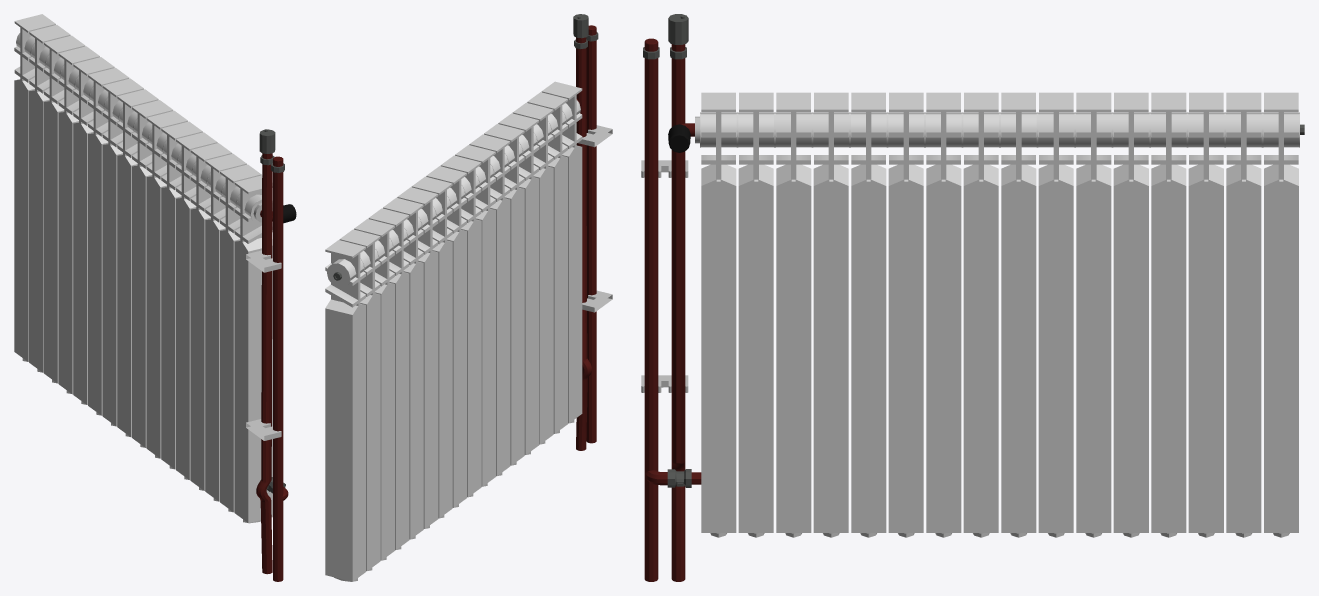
Rendered from radiator.fbx.
The picture shows the model from 3 angles, left to right: view 1: azimuth 30°, elevation 25°; view 2: azimuth 150°, elevation 25°; view 3: azimuth 270°, elevation 25°; orthographic projection. The views are drawn at different scales.
Visible parts, largest first — view 1: Cube; view 2: Cube; view 3: Cube.
Part boxes in pixels (<box>): Cube: <box>14,14,296,581</box>; Cube: <box>325,14,612,581</box>; Cube: <box>641,14,1304,581</box>.
Bounding box in the file's own units: 392 × 37.91 × 367.
